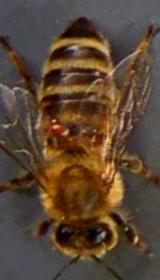varroa_mite: (48, 112, 76, 140)
